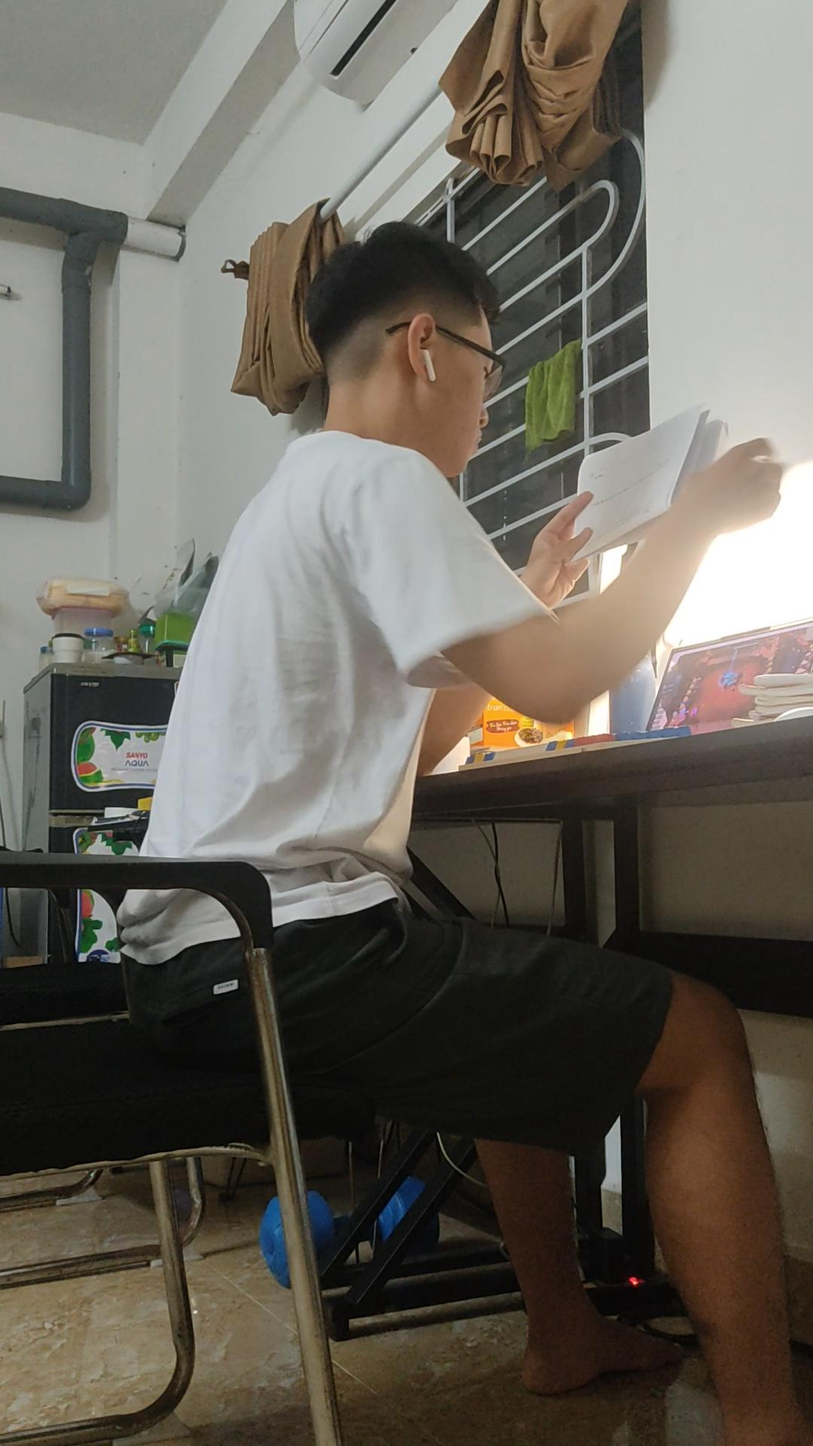GoodPosture: (145, 225, 812, 1445)
